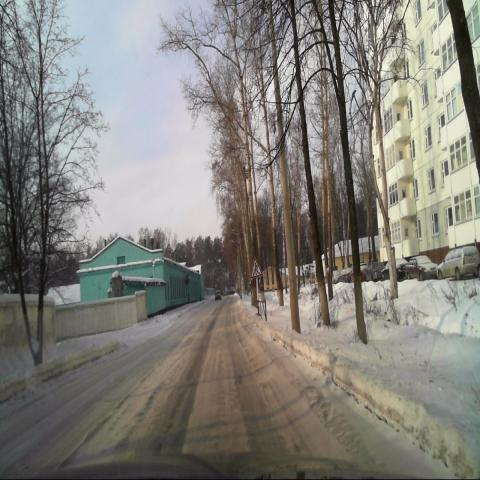1_22: (250, 257, 263, 279)
